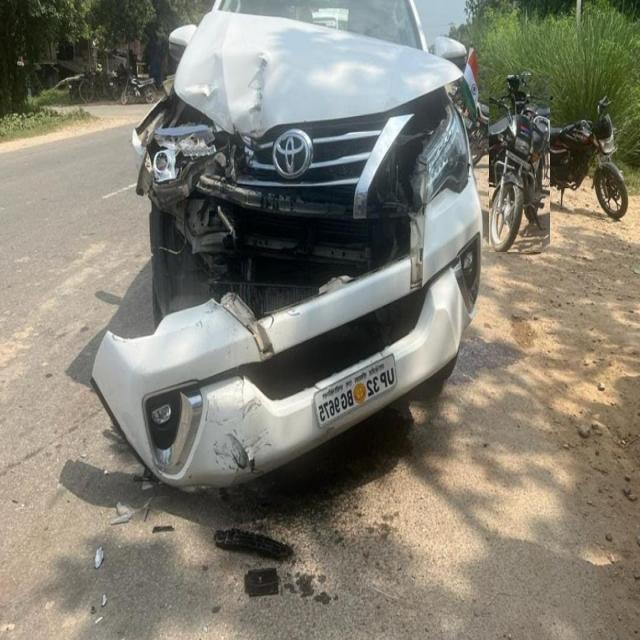accident: (91, 0, 480, 488)
motorcycle: (531, 98, 628, 218), (489, 75, 550, 252)
